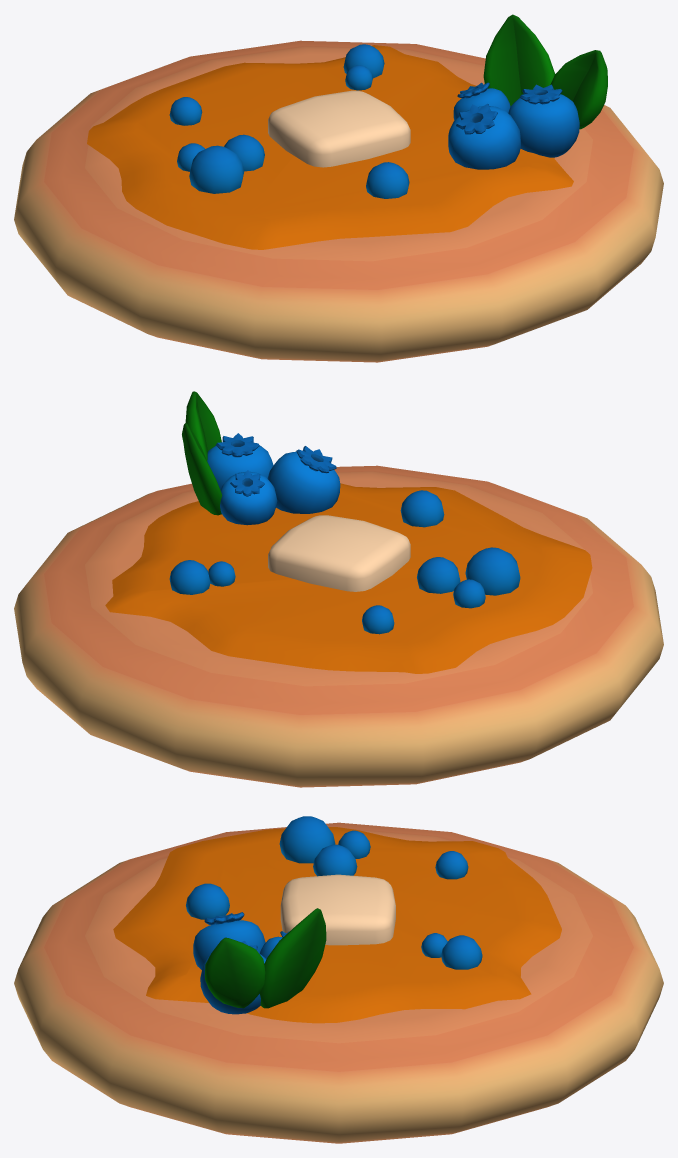
The model's file is Pancake_V1_01.fbx.
3 views of the same model, one above another, from view 1: azimuth 30°, elevation 25°; view 2: azimuth 150°, elevation 25°; view 3: azimuth 270°, elevation 25° (orthographic).
Parts seen in each view (by area): view 1: Pancake_V1_01; view 2: Pancake_V1_01; view 3: Pancake_V1_01.
Part boxes in pixels (<box>): Pancake_V1_01: <box>14,14,663,362</box>; Pancake_V1_01: <box>14,391,663,787</box>; Pancake_V1_01: <box>14,816,663,1143</box>.
Size of the model in its own units: 64.15 by 22.51 by 64.15.
